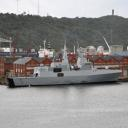Fragata: (7, 34, 124, 89)
